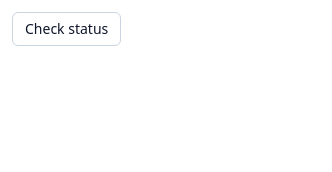
Test case: PublicationActions › processing: Check status reads this operation and shows Checking… meanwhile
Click the button "Check status".
click(67, 29)  # box [12,12,121,46]
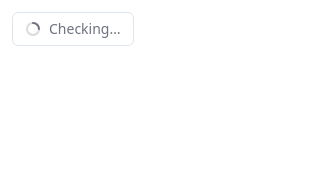
Expected: the button "Checking…" is disabled, [12,12,134,46]
